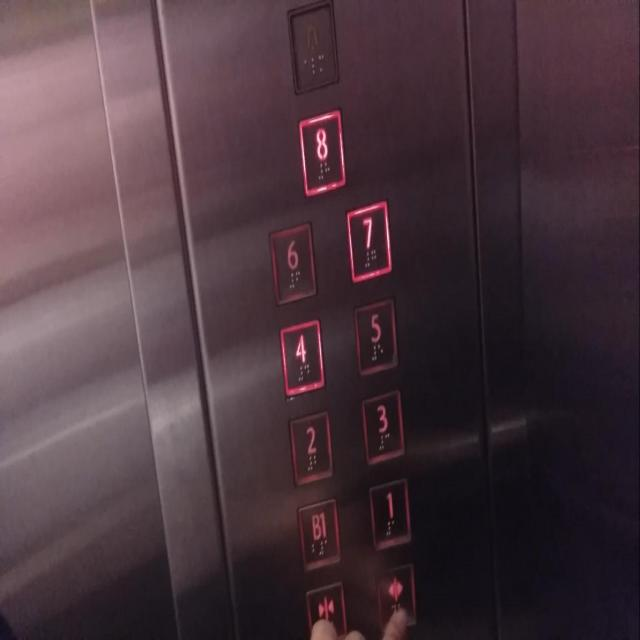1: (369, 475, 412, 550)
2: (286, 407, 334, 488)
3: (361, 388, 405, 465)
4: (278, 312, 326, 398)
5: (352, 296, 400, 376)
6: (268, 222, 316, 302)
7: (345, 197, 393, 283)
8: (297, 104, 346, 196)
B1: (297, 499, 341, 569)
alarm: (288, 1, 340, 92)
close: (306, 578, 346, 640)
open: (375, 555, 417, 628)
